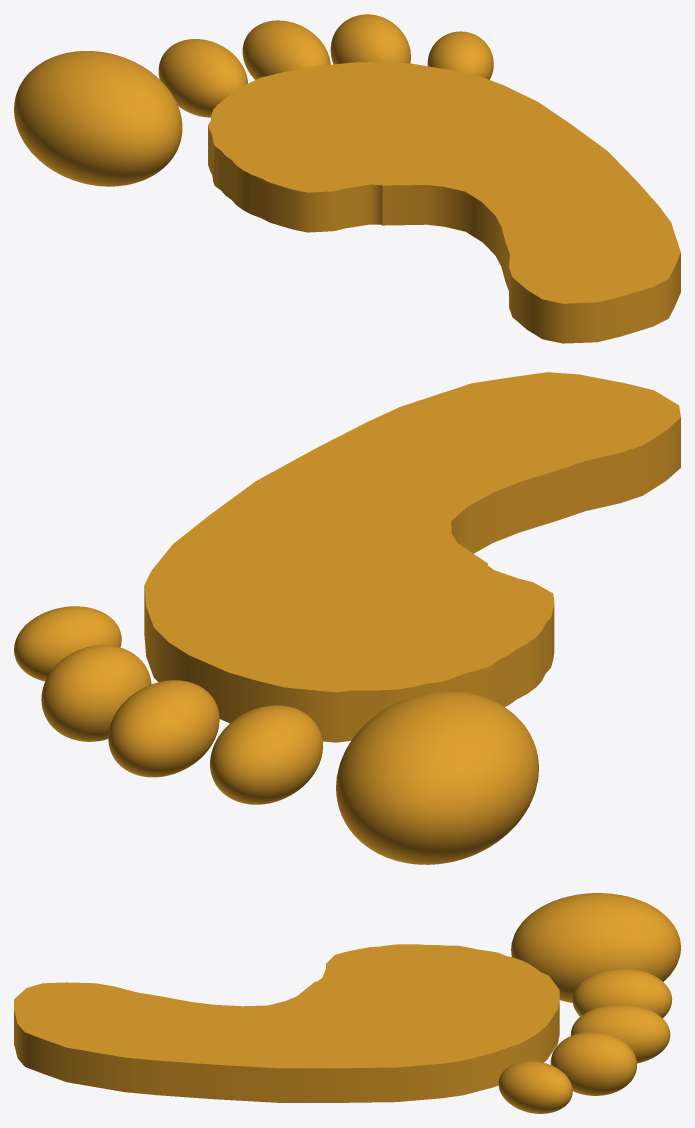
File: huellas4.fbx
The picture shows the model from 3 angles, top to bottom: view 1: azimuth 30°, elevation 25°; view 2: azimuth 150°, elevation 25°; view 3: azimuth 270°, elevation 25°; orthographic projection. The views are drawn at different scales.
Parts seen in each view (by area): view 1: root (×6); view 2: root (×6); view 3: root (×6).
Part boxes in pixels (x1,y1,x2,y2): root (×6): (14, 14, 680, 343); root (×6): (14, 372, 680, 864); root (×6): (14, 893, 680, 1113).
Size of the model in its own units: 0.3982 by 0.0999 by 0.6228.
